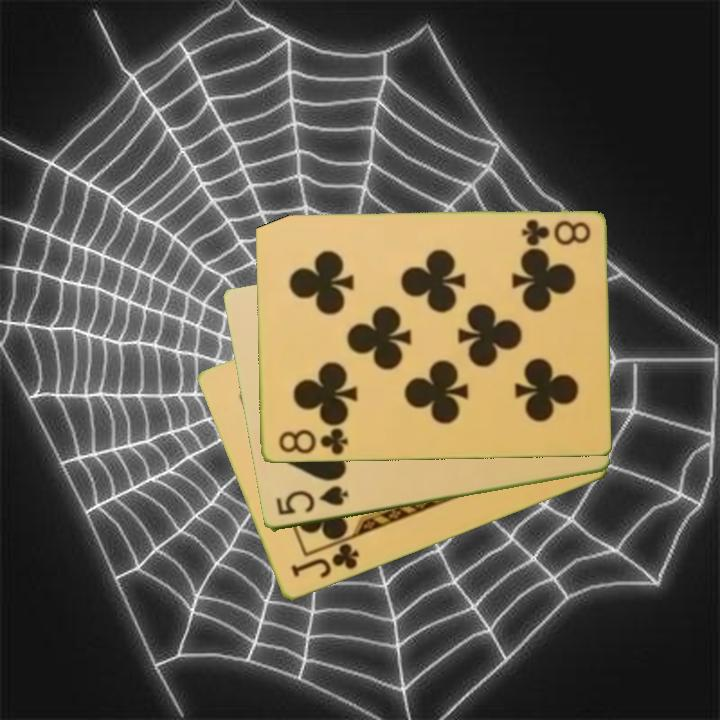5s: (272, 482, 351, 519)
8c: (274, 425, 350, 458), (518, 216, 593, 248)
Jc: (287, 540, 362, 582)
